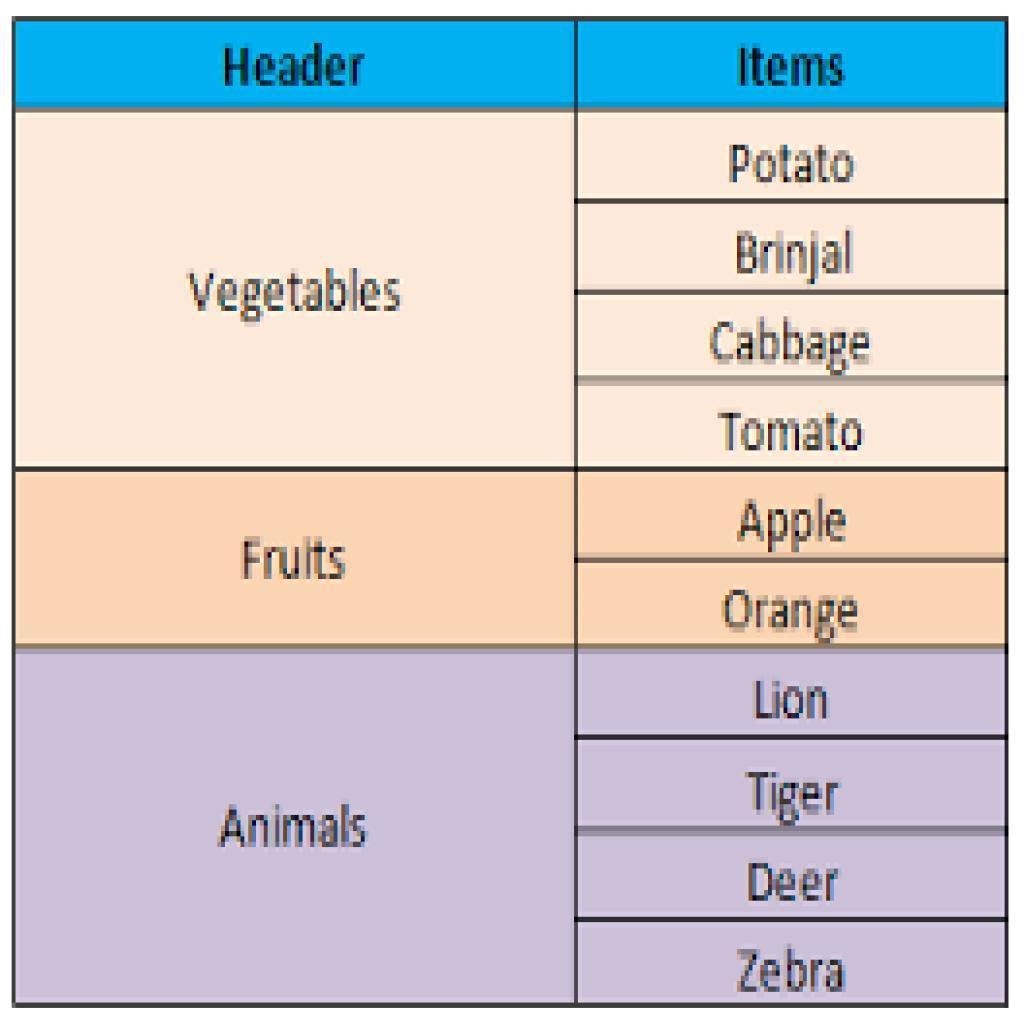table: (13, 18, 1010, 1011)
